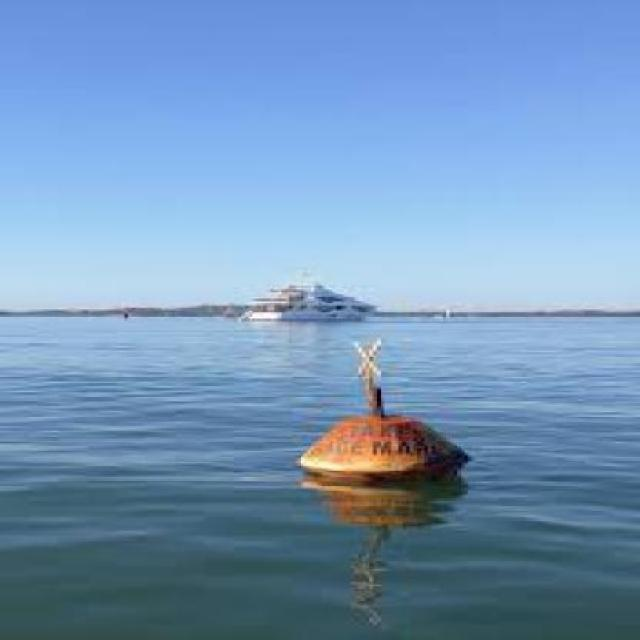buoy: (279, 334, 483, 497)
